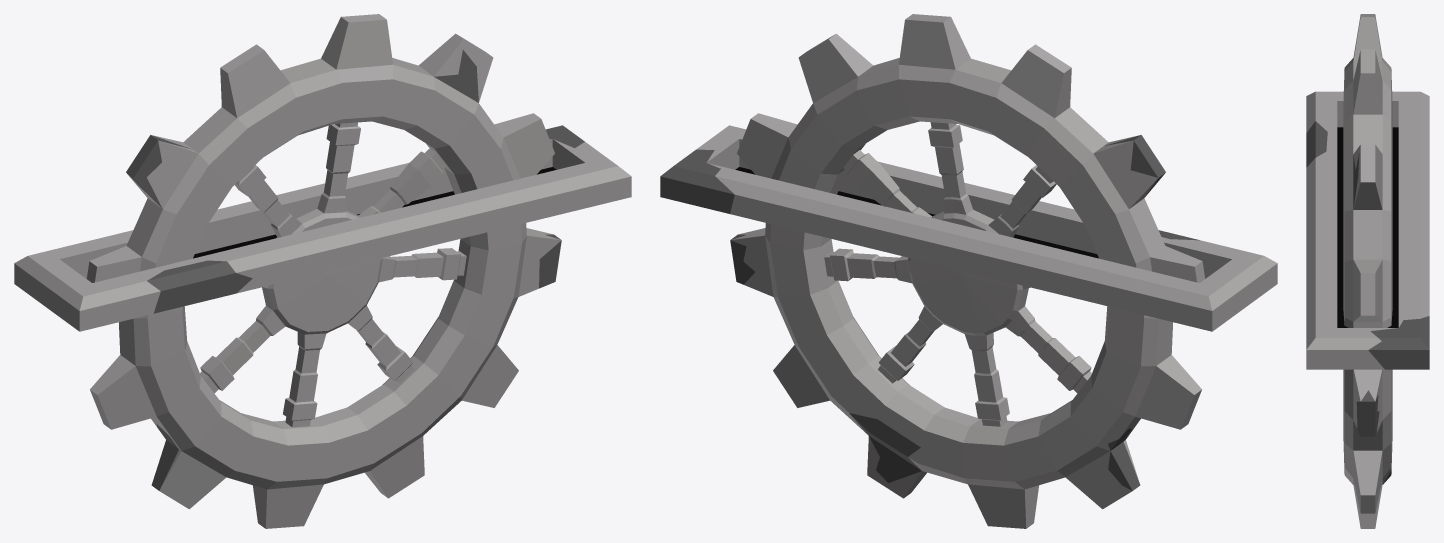
Rendered from Gear_Metal.fbx.
3 renders of one model, left to right at view 1: azimuth 30°, elevation 25°; view 2: azimuth 150°, elevation 25°; view 3: azimuth 270°, elevation 25°, orthographic. The views are drawn at different scales.
Parts seen in each view (by area): view 1: Gear, GearHousing; view 2: Gear, GearHousing; view 3: GearHousing, Gear.
Boxes of the visible parts, left/top/right/bottom form: Gear: left=86, top=14, right=561, bottom=528; GearHousing: left=14, top=125, right=631, bottom=331; Gear: left=730, top=14, right=1205, bottom=528; GearHousing: left=660, top=125, right=1277, bottom=331; GearHousing: left=1306, top=91, right=1429, bottom=369; Gear: left=1343, top=14, right=1392, bottom=528.
Size of the model in its own units: 167 by 143 by 34.3.
